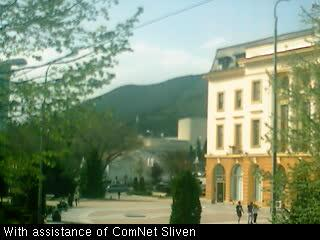person: (234, 200, 243, 222), (247, 202, 254, 223), (253, 203, 259, 222), (67, 192, 74, 207), (118, 191, 121, 201), (75, 198, 78, 208)
